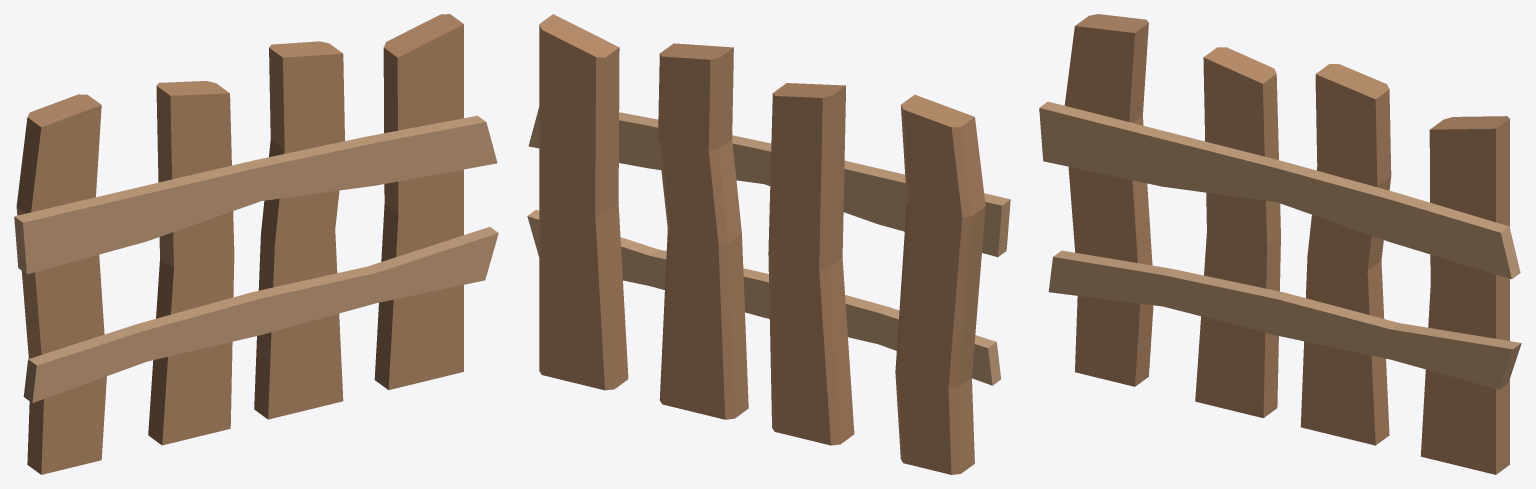
The model's file is Fence_Short.fbx.
The picture shows the model from 3 angles, left to right: view 1: azimuth 30°, elevation 25°; view 2: azimuth 150°, elevation 25°; view 3: azimuth 330°, elevation 25°; orthographic projection.
Parts seen in each view (by area): view 1: Fence_Short; view 2: Fence_Short; view 3: Fence_Short.
Boxes of the visible parts, x1,y1,x2,y2 form: Fence_Short: (14,14,498,474); Fence_Short: (527,14,1010,474); Fence_Short: (1039,14,1521,474).
Size of the model in its own units: 1.58 by 0.15 by 1.13.
